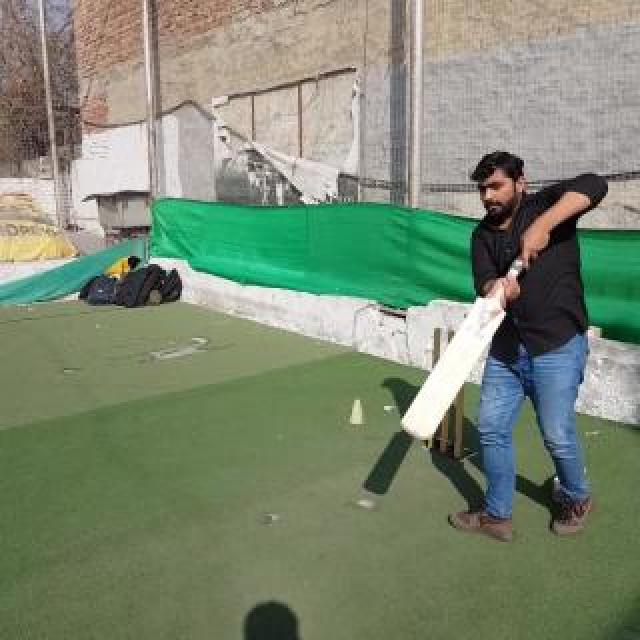bat: (400, 259, 524, 441)
